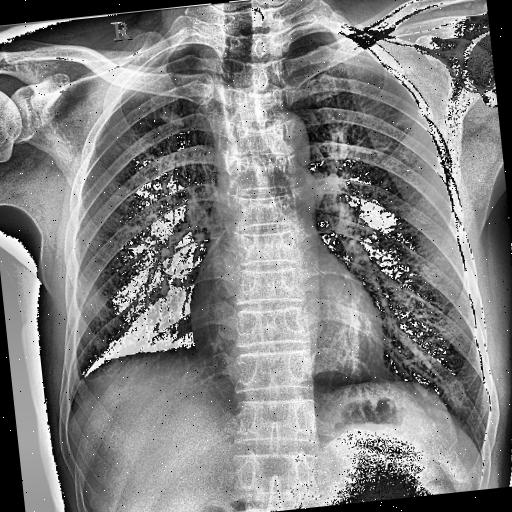1- Atelectasis: (192, 31, 238, 171)
10- Pleural effusion: (39, 315, 145, 433), (59, 356, 109, 404)
11- Pleural thickening: (30, 226, 216, 428)
13- Pulmonary fibrosis: (94, 20, 262, 252)
9- Other lesion: (30, 226, 216, 428)
